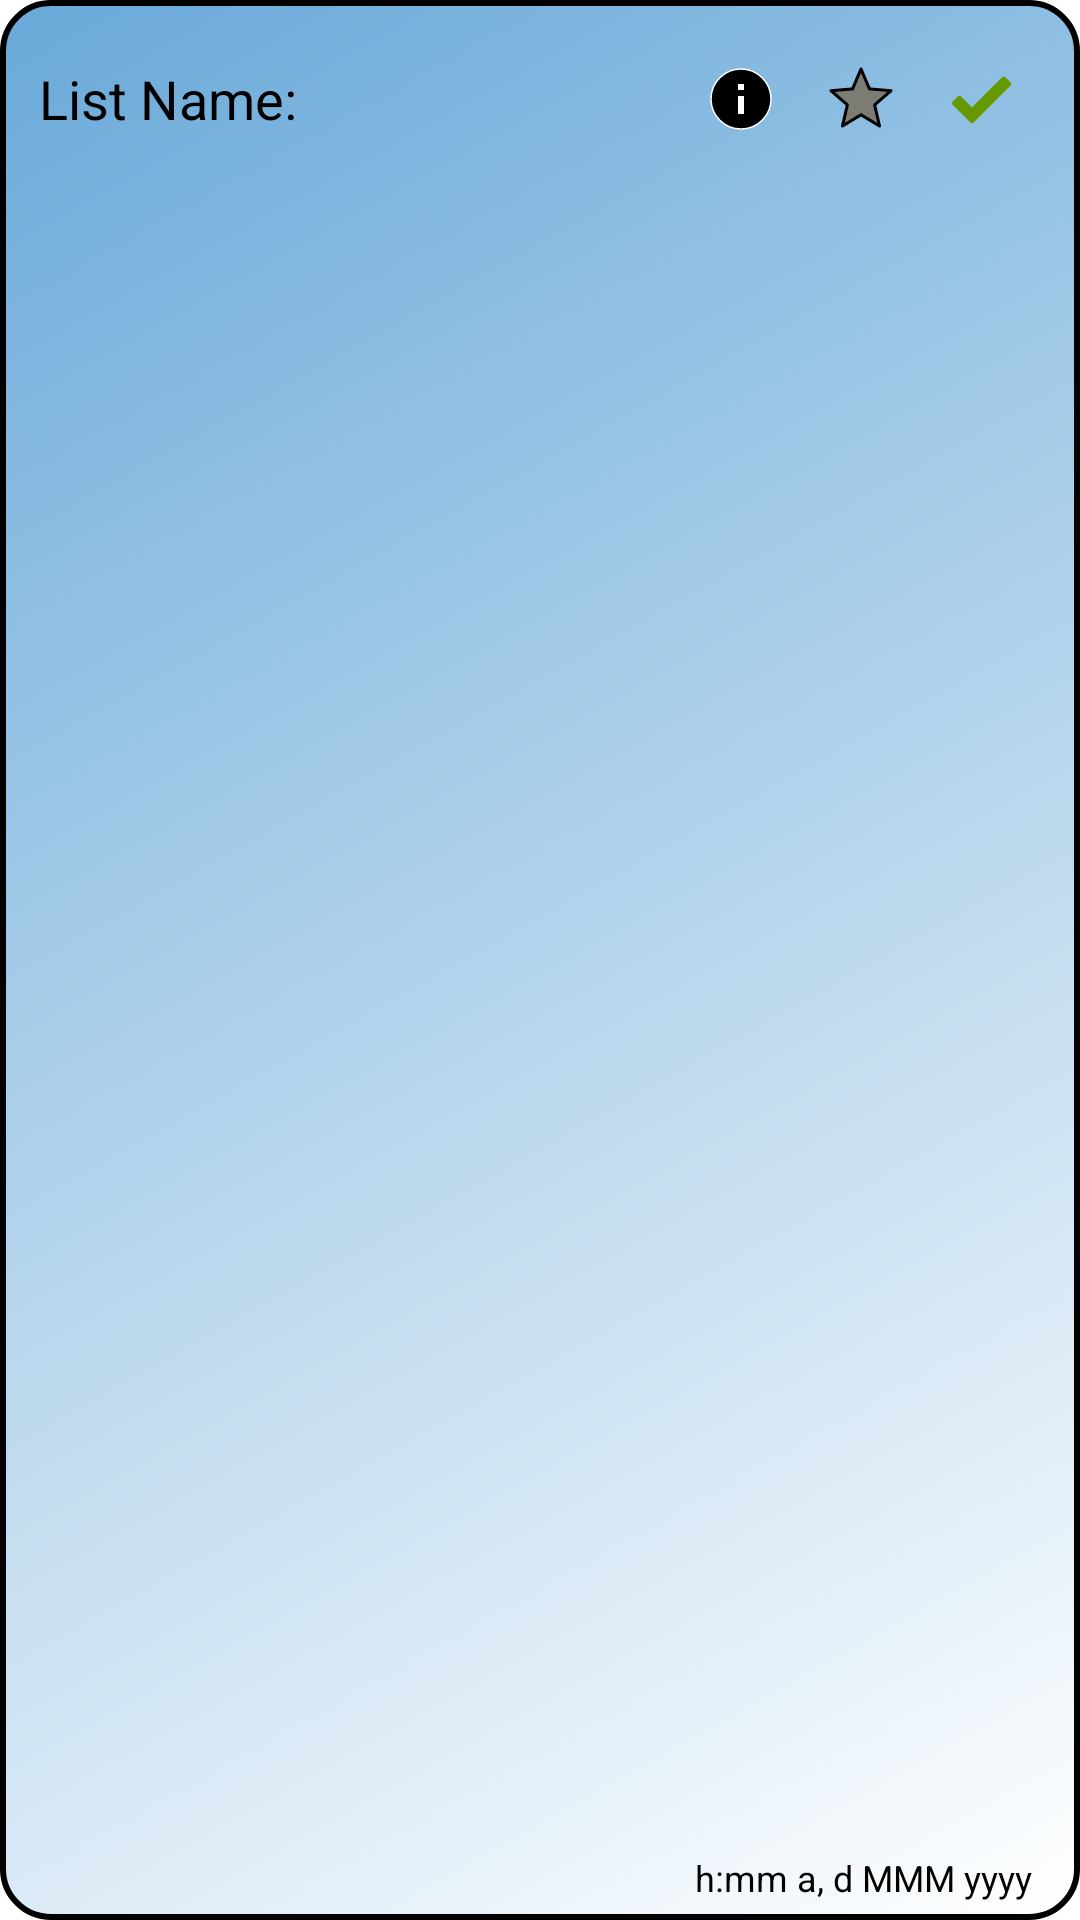

Icons on this 1080 x 1920 Android screen, each with the point to tap as (x=x, y=y):
info: (x=741, y=99)
star: (x=861, y=97)
Tick: (x=981, y=99)
